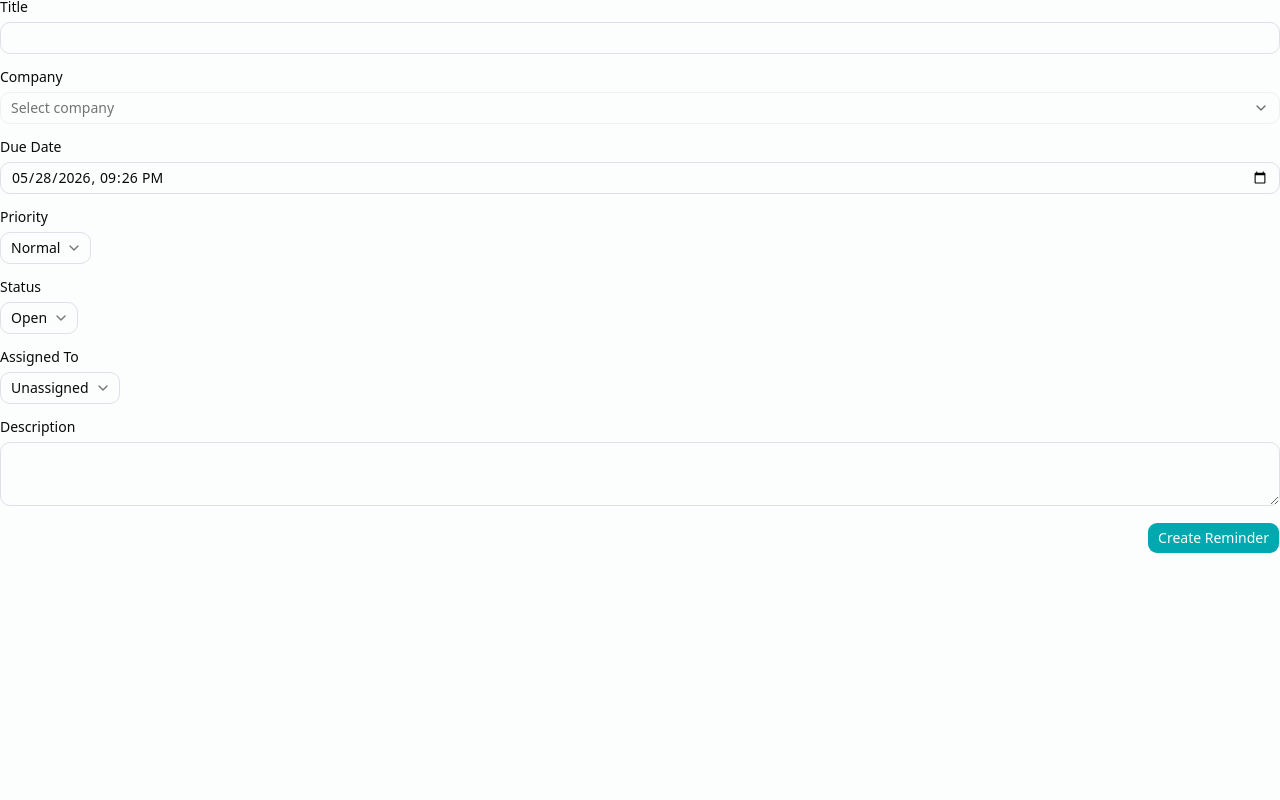
ReminderEditForm + reminderSchema › clears linked company when clear is pressed
This screenshot has width=1280, height=800.
Expected: the button "Select company" is shown, [0,92,1279,124]
In the field labelled "Title": (640, 38) [0,22,1279,54], type "After clear"
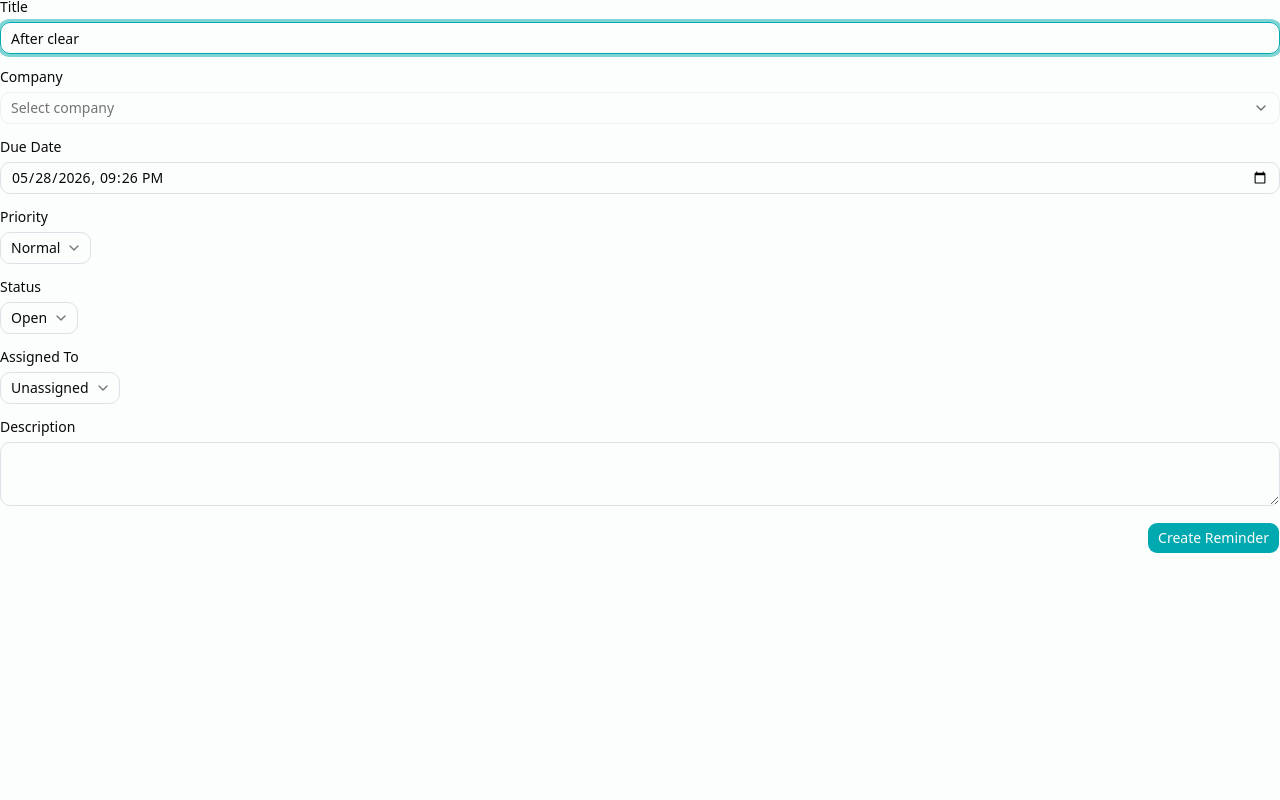
Click the button "Select company": click(63, 108) [0,92,1279,124]
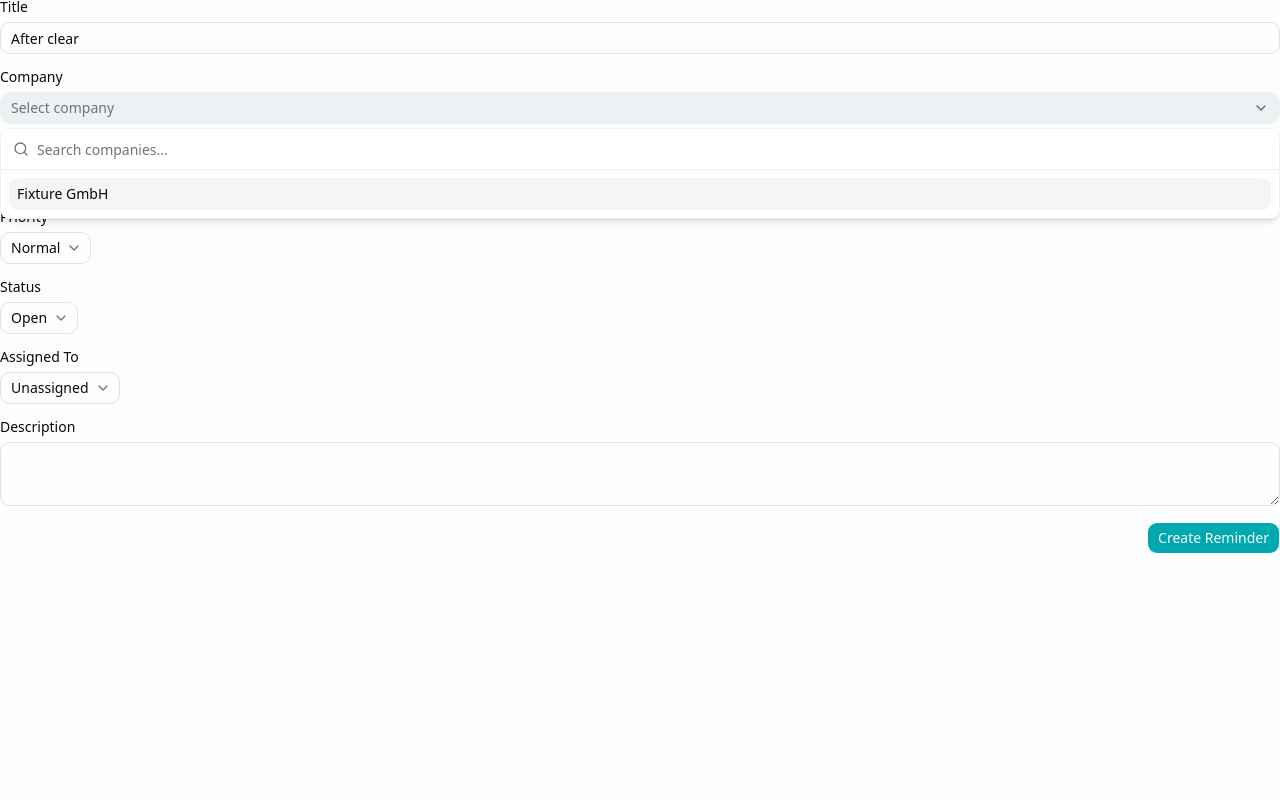
Expected: the dropdown with placeholder "Search companies…" is shown, [37,129,1267,169]
Click the option "Fixture GmbH": click(63, 194) [9,178,1271,210]
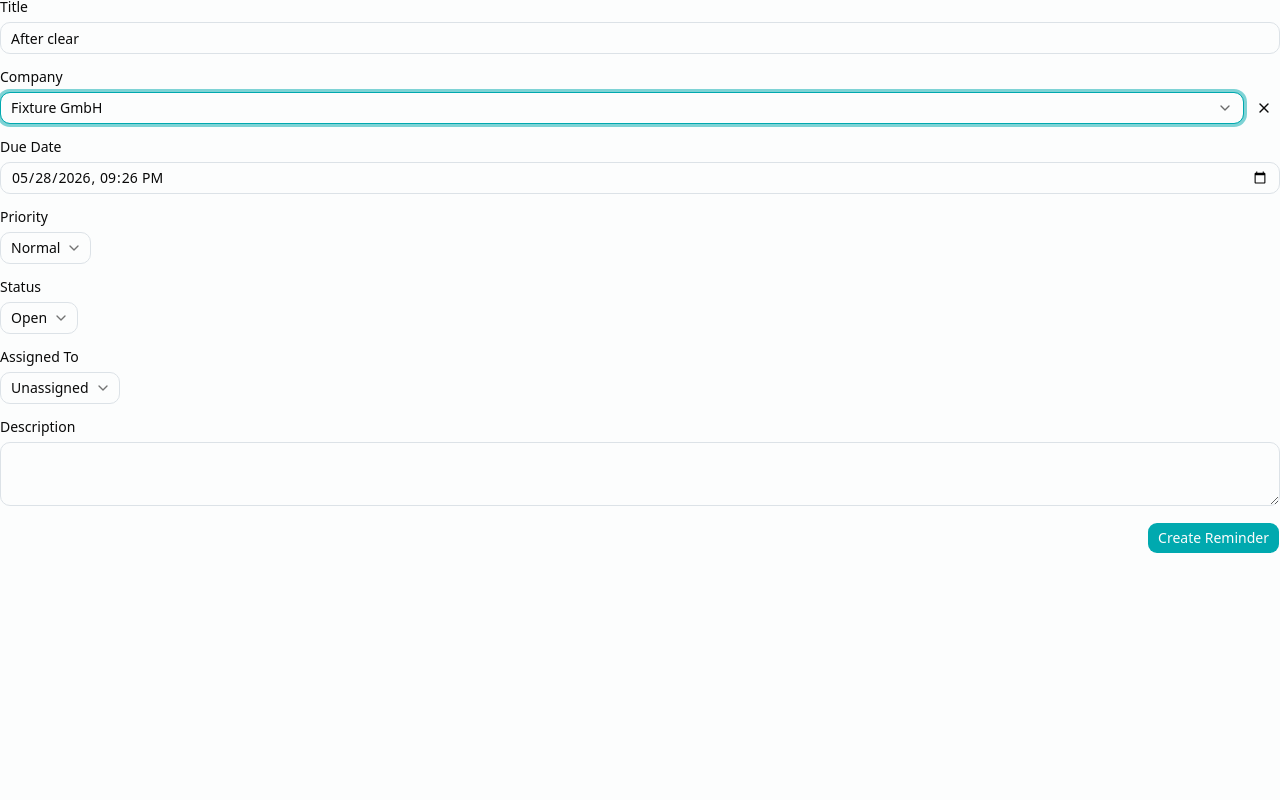
Click the button named "Clear company selection": click(1264, 108) [1248,92,1279,124]
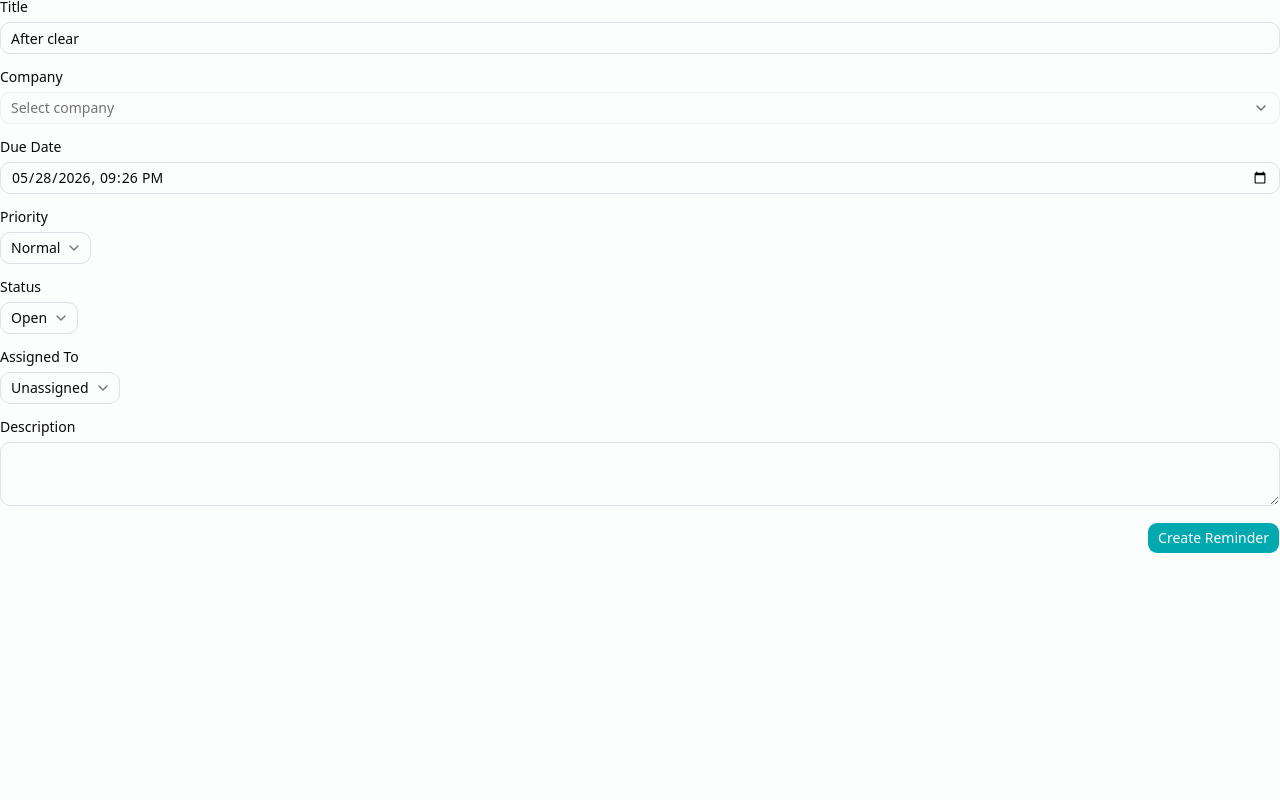
Expected: the button "Select company" is shown, [0,92,1279,124]
Click the button "Create Reminder": click(1214, 538) [1147,522,1279,554]
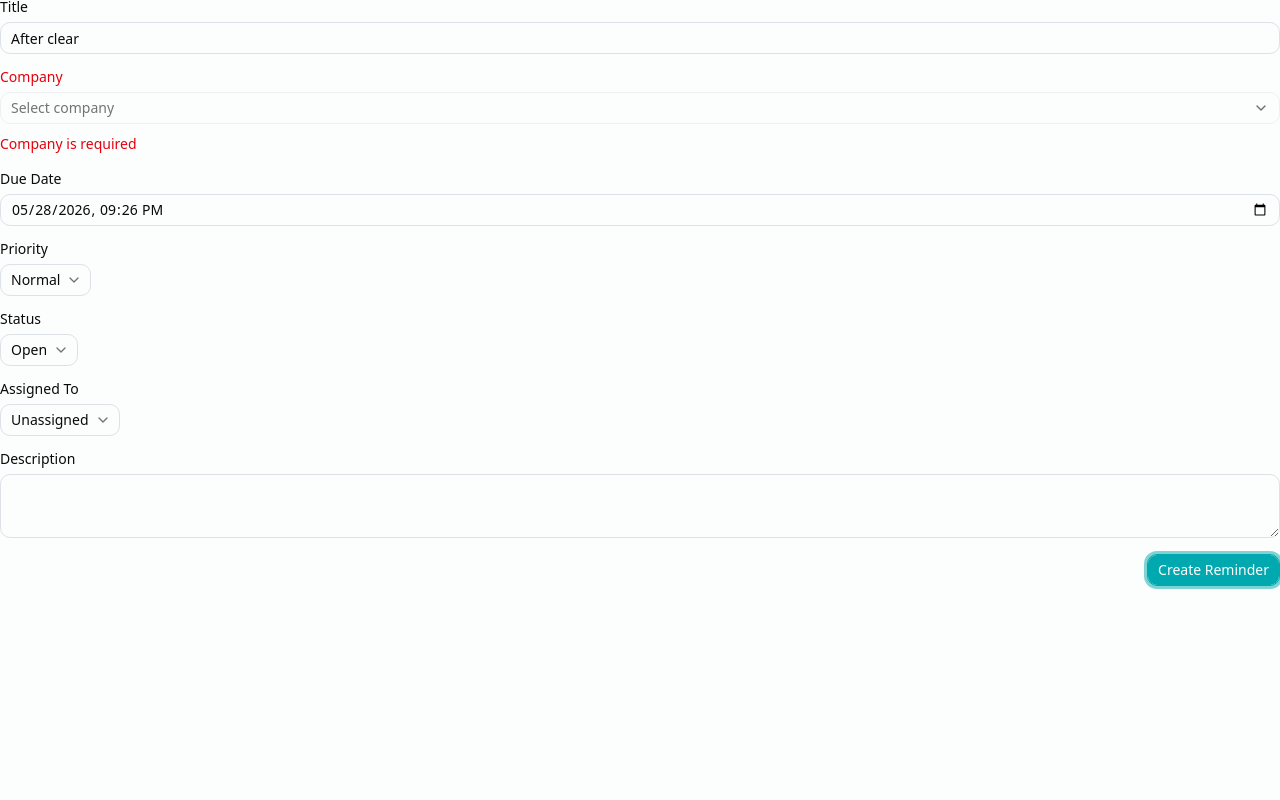
Expected: the text "Company is required" is shown, [0,134,136,153]
